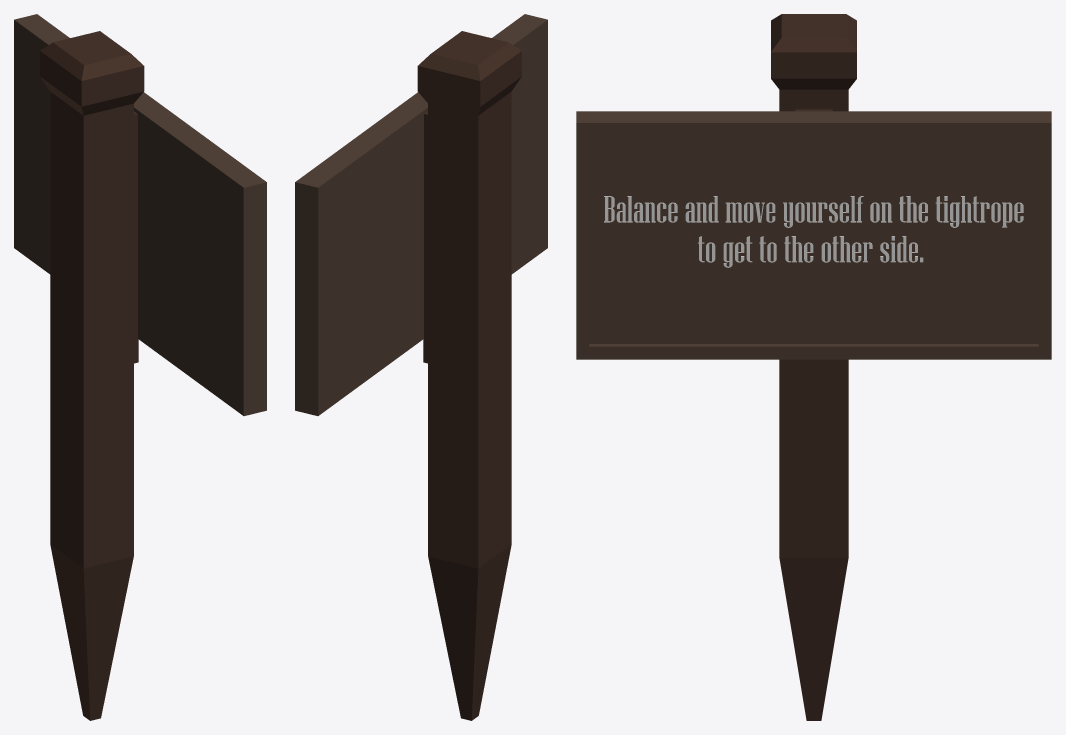
File: Tightrope sign.fbx
3 views of the same model, side by side, from view 1: azimuth 30°, elevation 25°; view 2: azimuth 150°, elevation 25°; view 3: azimuth 270°, elevation 25° (orthographic). The views are drawn at different scales.
Parts seen in each view (by area): view 1: Sign post.004, Sign.004; view 2: Sign post.004, Sign.004; view 3: Sign.004, Sign post.004, Text.007.
Boxes of the visible parts, x1=… form: Sign post.004: x1=40, y1=31, x2=144, y2=720; Sign.004: x1=14, y1=14, x2=266, y2=415; Sign post.004: x1=417, y1=31, x2=521, y2=720; Sign.004: x1=295, y1=14, x2=547, y2=415; Sign.004: x1=576, y1=111, x2=1051, y2=359; Sign post.004: x1=771, y1=14, x2=856, y2=720; Text.007: x1=604, y1=196, x2=1023, y2=267.
Bounding box in the file's own units: 89.17 × 624 × 389.
